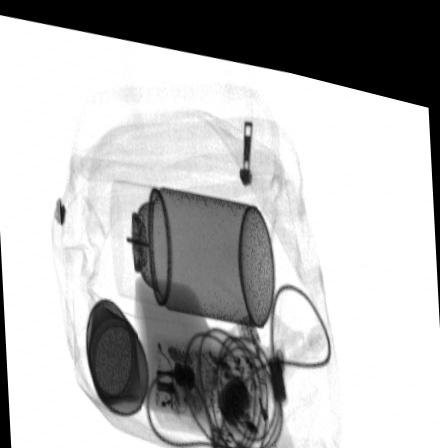Lighter: (228, 301, 294, 448)
Sprayer: (109, 177, 275, 317)
